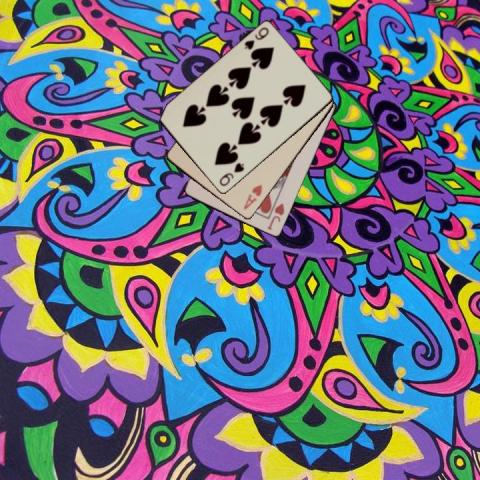9s: (216, 160, 246, 188), (241, 24, 270, 51)
Ah: (241, 182, 264, 211)
Jh: (264, 200, 286, 232)
